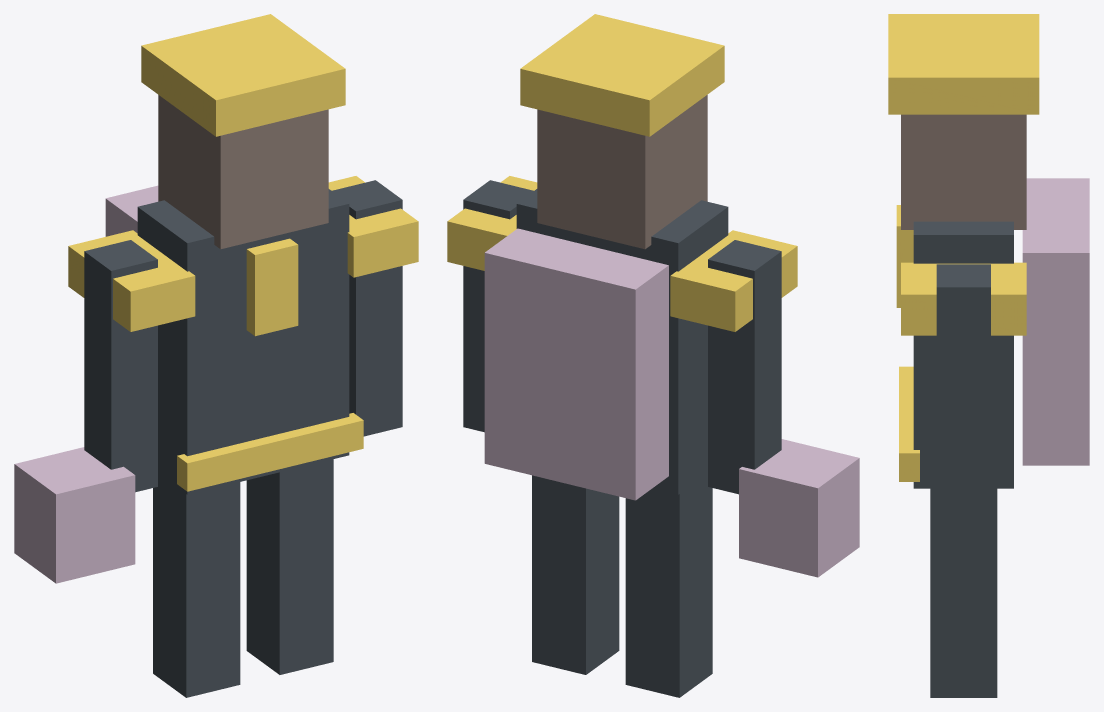
File: 02_ossa_voxmere_herald_under_coral.glb
3 renders of one model, left to right at view 1: azimuth 30°, elevation 25°; view 2: azimuth 150°, elevation 25°; view 3: azimuth 270°, elevation 25°, orthographic.
Visible parts, largest first — view 1: Ossa Voxmere, Herald under Coral; view 2: Ossa Voxmere, Herald under Coral; view 3: Ossa Voxmere, Herald under Coral.
Boxes of the visible parts, <box> form: Ossa Voxmere, Herald under Coral: <box>14,14,418,697</box>; Ossa Voxmere, Herald under Coral: <box>447,14,859,697</box>; Ossa Voxmere, Herald under Coral: <box>888,14,1089,697</box>.
Bounding box in the file's own units: 0.9722 × 1.58 × 0.469.
